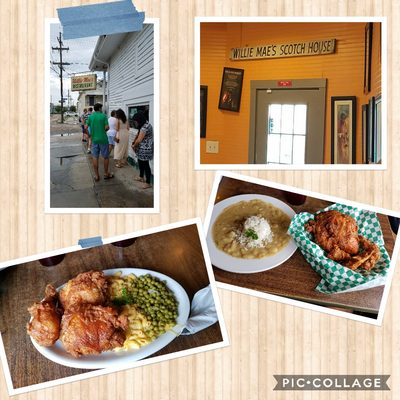sushi: (23, 266, 195, 370)
